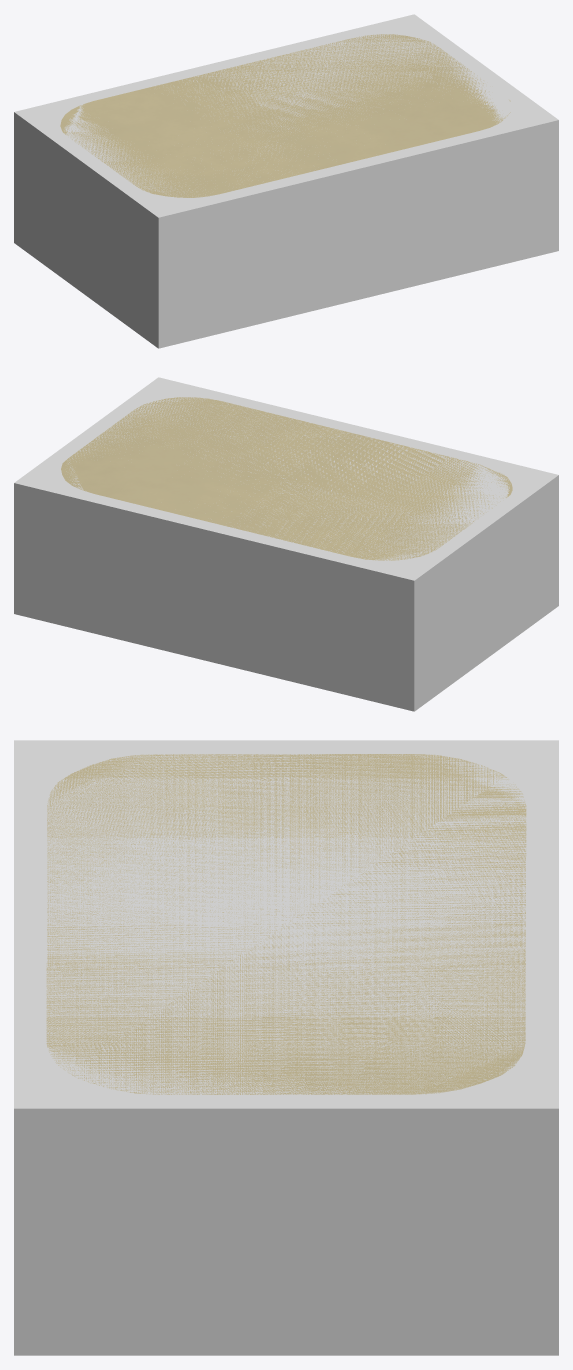
Rendered from SoapBar.fbx.
3 renders of one model, top to bottom at view 1: azimuth 30°, elevation 25°; view 2: azimuth 150°, elevation 25°; view 3: azimuth 270°, elevation 25°, orthographic. The views are drawn at different scales.
Visible parts, largest first — view 1: COL_SoapBar, SoapBar; view 2: COL_SoapBar, SoapBar; view 3: COL_SoapBar, SoapBar.
Part boxes in pixels (bbox=[...]): COL_SoapBar: bbox=[14, 14, 558, 348]; SoapBar: bbox=[60, 34, 510, 197]; COL_SoapBar: bbox=[14, 377, 558, 711]; SoapBar: bbox=[61, 397, 512, 560]; COL_SoapBar: bbox=[14, 740, 558, 1355]; SoapBar: bbox=[46, 754, 526, 1094].
Size of the model in its own units: 0.08 by 0.025 by 0.05.
1 material, 1 textured.
